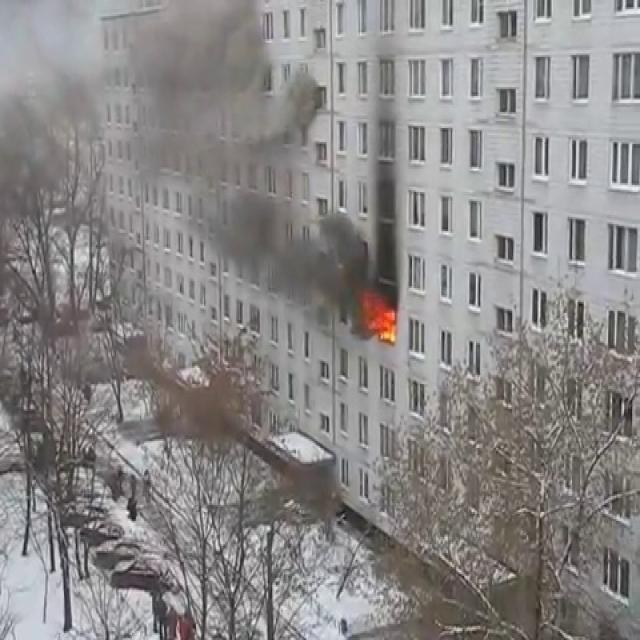Fire: (359, 287, 402, 344)
Smoke: (130, 1, 370, 332), (0, 0, 127, 295)
